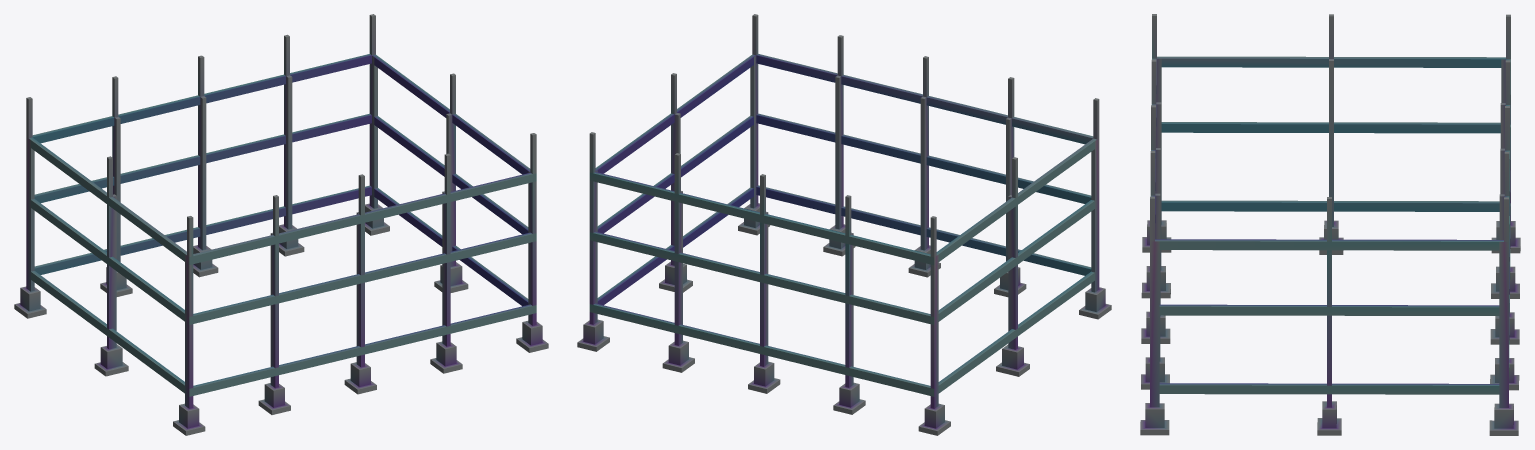
The picture shows the model from 3 angles, left to right: view 1: azimuth 30°, elevation 25°; view 2: azimuth 150°, elevation 25°; view 3: azimuth 270°, elevation 25°; orthographic projection. The views are drawn at different scales.
Visible parts, largest first — view 1: rail_course.002, rail_course.001, rail_course, foot_pad.001, foot_pad.006, end_pad, foot_pad.004, foot_pad.005, foot_pad.003, foot_pad.002, foot_pad.008, foot_pad.009 (+3 smaller); view 2: rail_course.002, rail_course.001, rail_course, foot_pad.006, foot_pad.001, end_pad, foot_pad.007, foot_pad.010, foot_pad.009, foot_pad.008, foot_pad.004, foot_pad.003 (+3 smaller); view 3: rail_course.002, rail_course, rail_course.001, foot_pad.005, foot_pad.010, end_pad.001, end_pad, foot_pad.002, foot_pad.004, foot_pad.008, foot_pad.003, foot_pad.007 (+3 smaller).
Boxes of the visible parts, <box> form: rail_course.002: <box>29,54,536,264</box>; rail_course.001: <box>31,113,536,324</box>; rail_course: <box>31,185,536,396</box>; foot_pad.001: <box>173,216,205,435</box>; foot_pad.006: <box>14,97,46,318</box>; end_pad: <box>94,156,128,376</box>; foot_pad.004: <box>430,153,462,373</box>; foot_pad.005: <box>516,133,548,352</box>; foot_pad.003: <box>344,174,376,394</box>; foot_pad.002: <box>258,195,290,414</box>; foot_pad.008: <box>193,55,218,277</box>; foot_pad.009: <box>279,34,304,256</box>; rail_course.002: <box>589,54,1096,265</box>; rail_course.001: <box>589,113,1094,324</box>; rail_course: <box>589,185,1094,396</box>; foot_pad.006: <box>918,216,950,435</box>; foot_pad.001: <box>1079,98,1111,319</box>; end_pad: <box>996,157,1029,376</box>; foot_pad.007: <box>833,195,865,414</box>; foot_pad.010: <box>577,132,609,351</box>; foot_pad.009: <box>662,153,694,372</box>; foot_pad.008: <box>748,174,780,393</box>; foot_pad.004: <box>823,35,855,256</box>; foot_pad.003: <box>908,56,940,277</box>; rail_course.002: <box>1150,56,1510,250</box>; rail_course: <box>1159,200,1510,394</box>; rail_course.001: <box>1159,122,1510,315</box>; foot_pad.005: <box>1140,196,1169,435</box>; foot_pad.010: <box>1489,197,1518,435</box>; end_pad.001: <box>1317,197,1341,435</box>; end_pad: <box>1319,14,1343,254</box>; foot_pad.002: <box>1141,59,1170,298</box>; foot_pad.004: <box>1141,151,1169,389</box>; foot_pad.008: <box>1490,106,1519,344</box>; foot_pad.003: <box>1141,105,1170,343</box>; foot_pad.007: <box>1491,60,1519,298</box>.
Size of the model in its own units: 6.02 by 3.37 by 5.
